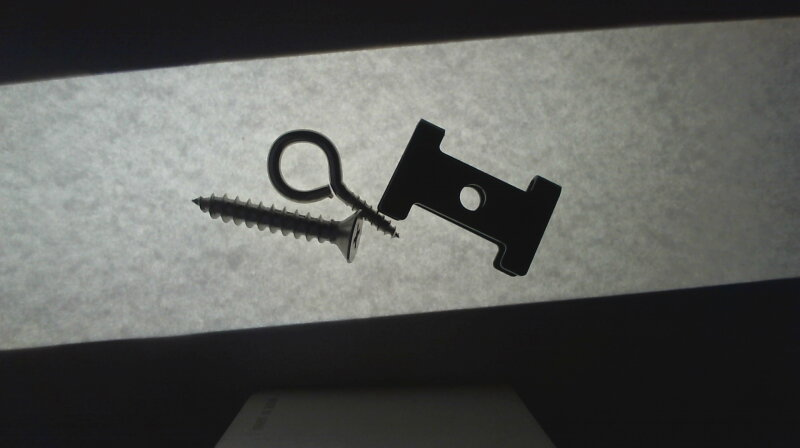O001: (264, 125, 400, 240)
O002: (376, 115, 563, 275)
S001: (188, 195, 365, 261)
